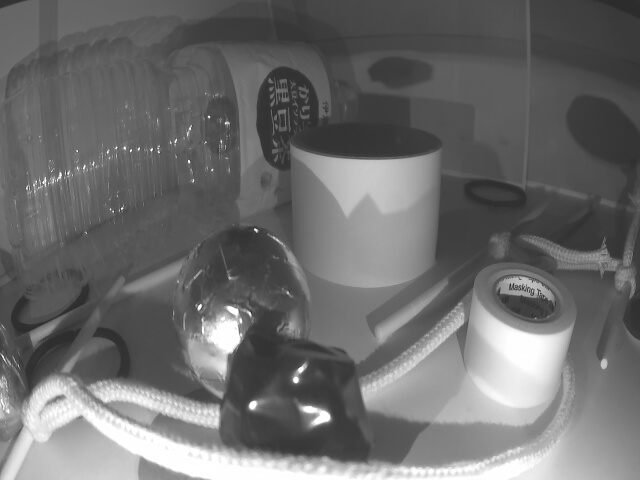Dead: (226, 338, 380, 469)
Live: (173, 232, 311, 389), (0, 312, 29, 446)
